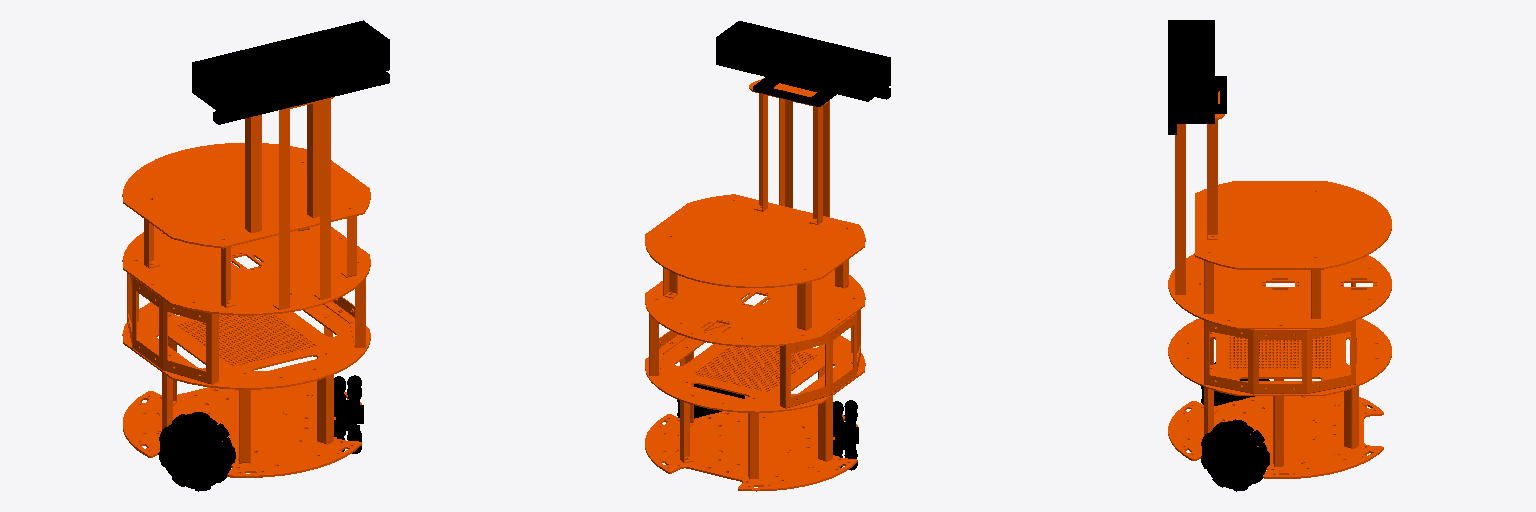
The robot description file, URDF, robot "omnire":
<robot
  name="omnire">
  <link
    name="base_link">
    <inertial>
      <origin
        xyz="9.9532E-05 -0.0086261 0.21672"
        rpy="0 0 0" />
      <mass
        value="0.89182" />
      <inertia
        ixx="0.022116"
        ixy="1.5307E-05"
        ixz="-2.1223E-06"
        iyy="0.021823"
        iyz="0.0018648"
        izz="0.011564" />
    </inertial>
    <visual>
      <origin
        xyz="0 0 0"
        rpy="0 0 0" />
      <geometry>
        <mesh
          filename="package://omnire/meshes/base_link.STL" />
      </geometry>
      <material
        name="">
        <color
          rgba="1 0.38 0 1" />
      </material>
    </visual>
    <collision>
      <origin
        xyz="0 0 0"
        rpy="0 0 0" />
      <geometry>
        <mesh
          filename="package://omnire/meshes/base_link.STL" />
      </geometry>
    </collision>
  </link>
  <link
    name="wheel_1_link">
    <inertial>
      <origin
        xyz="-3.9527E-06 0.0080388 -0.0021151"
        rpy="0 0 0" />
      <mass
        value="0.13181" />
      <inertia
        ixx="9.678E-05"
        ixy="-9.3387E-09"
        ixz="-3.4848E-09"
        iyy="0.00016474"
        iyz="-4.1137E-09"
        izz="9.6787E-05" />
    </inertial>
    <visual>
      <origin
        xyz="0 0 0"
        rpy="0 0 0" />
      <geometry>
        <mesh
          filename="package://omnire/meshes/wheel_1_link.STL" />
      </geometry>
      <material
        name="">
        <color
          rgba="0 0 0 1" />
      </material>
    </visual>
    <collision>
      <origin
        xyz="0 0 0"
        rpy="0 0 0" />
      <geometry>
        <mesh
          filename="package://omnire/meshes/wheel_1_link.STL" />
      </geometry>
    </collision>
  </link>
  <joint
    name="wheel_1_joint"
    type="continuous">
    <origin
      xyz="0.11691 -0.067501 0.047921"
      rpy="0 0 1.0472" />
    <parent
      link="base_link" />
    <child
      link="wheel_1_link" />
    <axis
      xyz="0 1 0" />
  </joint>
  <link
    name="wheel_2_link">
    <inertial>
      <origin
        xyz="-5.1879E-06 0.0080388 -0.0021151"
        rpy="0 0 0" />
      <mass
        value="0.13181" />
      <inertia
        ixx="9.678E-05"
        ixy="-9.3385E-09"
        ixz="-3.4857E-09"
        iyy="0.00016474"
        iyz="-4.1135E-09"
        izz="9.6787E-05" />
    </inertial>
    <visual>
      <origin
        xyz="0 0 0"
        rpy="0 0 0" />
      <geometry>
        <mesh
          filename="package://omnire/meshes/wheel_2_link.STL" />
      </geometry>
      <material
        name="">
        <color
          rgba="0 0 0 1" />
      </material>
    </visual>
    <collision>
      <origin
        xyz="0 0 0"
        rpy="0 0 0" />
      <geometry>
        <mesh
          filename="package://omnire/meshes/wheel_2_link.STL" />
      </geometry>
    </collision>
  </link>
  <joint
    name="wheel_2_joint"
    type="continuous">
    <origin
      xyz="0 0.135 0.047921"
      rpy="0 0 3.1416" />
    <parent
      link="base_link" />
    <child
      link="wheel_2_link" />
    <axis
      xyz="0 1 0" />
  </joint>
  <link
    name="wheel_3_link">
    <inertial>
      <origin
        xyz="-3.9526E-06 0.0080388 -0.0021151"
        rpy="0 0 0" />
      <mass
        value="0.13181" />
      <inertia
        ixx="9.678E-05"
        ixy="-9.3386E-09"
        ixz="-3.4848E-09"
        iyy="0.00016474"
        iyz="-4.1138E-09"
        izz="9.6787E-05" />
    </inertial>
    <visual>
      <origin
        xyz="0 0 0"
        rpy="0 0 0" />
      <geometry>
        <mesh
          filename="package://omnire/meshes/wheel_3_link.STL" />
      </geometry>
      <material
        name="">
        <color
          rgba="0 0 0 1" />
      </material>
    </visual>
    <collision>
      <origin
        xyz="0 0 0"
        rpy="0 0 0" />
      <geometry>
        <mesh
          filename="package://omnire/meshes/wheel_3_link.STL" />
      </geometry>
    </collision>
  </link>
  <joint
    name="wheel_3_joint"
    type="continuous">
    <origin
      xyz="-0.11691 -0.067499 0.047921"
      rpy="0 0 -1.0472" />
    <parent
      link="base_link" />
    <child
      link="wheel_3_link" />
    <axis
      xyz="0 1 0" />
  </joint>
  <link
    name="kinectv2_link">
    <inertial>
      <origin
        xyz="0.00051627 -0.00075402 0.035917"
        rpy="0 0 0" />
      <mass
        value="0.78726" />
      <inertia
        ixx="0.00050417"
        ixy="1.209E-05"
        ixz="-1.2532E-06"
        iyy="0.004127"
        iyz="-2.0669E-05"
        izz="0.0042383" />
    </inertial>
    <visual>
      <origin
        xyz="0 0 0"
        rpy="0 0 0" />
      <geometry>
        <mesh
          filename="package://omnire/meshes/kinectv2_link.STL" />
      </geometry>
      <material
        name="">
        <color
          rgba="0 0 0 1" />
      </material>
    </visual>
    <collision>
      <origin
        xyz="0 0 0"
        rpy="0 0 0" />
      <geometry>
        <mesh
          filename="package://omnire/meshes/kinectv2_link.STL" />
      </geometry>
    </collision>
  </link>
  <joint
    name="kinectv2_joint"
    type="fixed">
    <origin
      xyz="-0.0075 -0.125 0.54505"
      rpy="0 0 0" />
    <parent
      link="base_link" />
    <child
      link="kinectv2_link" />
    <axis
      xyz="0 0 0" />
  </joint>
  <link
    name="kinectv2_rgb_link">
    <inertial>
      <origin
        xyz="1.3878E-17 0.0025 0"
        rpy="0 0 0" />
      <mass
        value="0.0035343" />
      <inertia
        ixx="2.0617E-07"
        ixy="0"
        ixz="1.7647E-23"
        iyy="3.9761E-07"
        iyz="6.6174E-24"
        izz="2.0617E-07" />
    </inertial>
    <visual>
      <origin
        xyz="0 0 0"
        rpy="0 0 0" />
      <geometry>
        <mesh
          filename="package://omnire/meshes/kinectv2_rgb_link.STL" />
      </geometry>
      <material
        name="">
        <color
          rgba="0 0 0 1" />
      </material>
    </visual>
    <collision>
      <origin
        xyz="0 0 0"
        rpy="0 0 0" />
      <geometry>
        <mesh
          filename="package://omnire/meshes/kinectv2_rgb_link.STL" />
      </geometry>
    </collision>
  </link>
  <joint
    name="kinectv2_rgb_joint"
    type="fixed">
    <origin
      xyz="0.095 0.033 0.039"
      rpy="0 0 8.6736E-17" />
    <parent
      link="kinectv2_link" />
    <child
      link="kinectv2_rgb_link" />
    <axis
      xyz="0 0 0" />
  </joint>
  <link
    name="kinectv2_rgb_optical_link">
    <inertial>
      <origin
        xyz="1.3878E-17 0.0025 0"
        rpy="0 0 0" />
      <mass
        value="0.0035343" />
      <inertia
        ixx="2.0617E-07"
        ixy="0"
        ixz="1.7647E-23"
        iyy="3.9761E-07"
        iyz="6.6174E-24"
        izz="2.0617E-07" />
    </inertial>
    <visual>
      <origin
        xyz="0 0 0"
        rpy="0 0 0" />
      <geometry>
        <mesh
          filename="package://omnire/meshes/kinectv2_rgb_optical_link.STL" />
      </geometry>
      <material
        name="">
        <color
          rgba="0 0 0 1" />
      </material>
    </visual>
    <collision>
      <origin
        xyz="0 0 0"
        rpy="0 0 0" />
      <geometry>
        <mesh
          filename="package://omnire/meshes/kinectv2_rgb_optical_link.STL" />
      </geometry>
    </collision>
  </link>
  <joint
    name="kinectv2_rgb_optical_joint"
    type="fixed">
    <origin
      xyz="0 0 0"
      rpy="-1.57 0 0" />
    <parent
      link="kinectv2_rgb_link" />
    <child
      link="kinectv2_rgb_optical_link" />
    <axis
      xyz="0 0 0" />
  </joint>
  <link
    name="kinectv2_depth_link">
    <inertial>
      <origin
        xyz="0 0.0025 0"
        rpy="0 0 0" />
      <mass
        value="0.0015708" />
      <inertia
        ixx="4.2542E-08"
        ixy="1.1029E-24"
        ixz="1.0756E-40"
        iyy="7.854E-08"
        iyz="0"
        izz="4.2542E-08" />
    </inertial>
    <visual>
      <origin
        xyz="0 0 0"
        rpy="0 0 0" />
      <geometry>
        <mesh
          filename="package://omnire/meshes/kinectv2_depth_link.STL" />
      </geometry>
      <material
        name="">
        <color
          rgba="0 0 0 1" />
      </material>
    </visual>
    <collision>
      <origin
        xyz="0 0 0"
        rpy="0 0 0" />
      <geometry>
        <mesh
          filename="package://omnire/meshes/kinectv2_depth_link.STL" />
      </geometry>
    </collision>
  </link>
  <joint
    name="kinectv2_depth_joint"
    type="fixed">
    <origin
      xyz="0.045 0.033 0.039"
      rpy="0 0 8.6736E-17" />
    <parent
      link="kinectv2_link" />
    <child
      link="kinectv2_depth_link" />
    <axis
      xyz="0 0 0" />
  </joint>
  <link
    name="kinectv2_depth_optical_frame">
    <inertial>
      <origin
        xyz="0 0.0025 0"
        rpy="0 0 0" />
      <mass
        value="0.0015708" />
      <inertia
        ixx="4.2542E-08"
        ixy="1.1029E-24"
        ixz="1.0756E-40"
        iyy="7.854E-08"
        iyz="0"
        izz="4.2542E-08" />
    </inertial>
    <visual>
      <origin
        xyz="0 0 0"
        rpy="0 0 0" />
      <geometry>
        <mesh
          filename="package://omnire/meshes/kinectv2_depth_optical_frame.STL" />
      </geometry>
      <material
        name="">
        <color
          rgba="0 0 0 1" />
      </material>
    </visual>
    <collision>
      <origin
        xyz="0 0 0"
        rpy="0 0 0" />
      <geometry>
        <mesh
          filename="package://omnire/meshes/kinectv2_depth_optical_frame.STL" />
      </geometry>
    </collision>
  </link>
  <joint
    name="kinectv2_depth_optical_joint"
    type="fixed">
    <origin
      xyz="0 0 0"
      rpy="-1.57 0 0" />
    <parent
      link="kinectv2_depth_link" />
    <child
      link="kinectv2_depth_optical_frame" />
    <axis
      xyz="0 0 0" />
  </joint>
</robot>

--- Render facts (derived) ---
The picture shows the robot from 3 angles, left to right: view 1: azimuth 30°, elevation 25°; view 2: azimuth 150°, elevation 25°; view 3: azimuth 270°, elevation 25°; orthographic projection.
Robot: omnire — 9 links, 8 joints (3 continuous, 5 fixed); root link base_link; default pose: every joint at zero.
Links seen in each view (by area): view 1: base_link, kinectv2_link, wheel_3_link, wheel_1_link; view 2: base_link, kinectv2_link, wheel_3_link; view 3: base_link, kinectv2_link, wheel_1_link.
Link boxes in pixels (x1,y1,x2,y2): base_link: (122, 97, 370, 477); kinectv2_link: (192, 20, 389, 124); wheel_3_link: (158, 412, 235, 491); wheel_1_link: (334, 375, 363, 453); base_link: (645, 78, 865, 491); kinectv2_link: (716, 21, 890, 106); wheel_3_link: (833, 400, 858, 470); base_link: (1168, 91, 1391, 478); kinectv2_link: (1168, 20, 1226, 134); wheel_1_link: (1201, 419, 1269, 491).
Bounding box of the posed robot: 0.3145 × 0.3153 × 0.6103 m (x, y, z).
6 mesh visuals loaded from 9 distinct referenced files (6 binary STL); not drawn: 3 (reference not matched to a file when rendering).